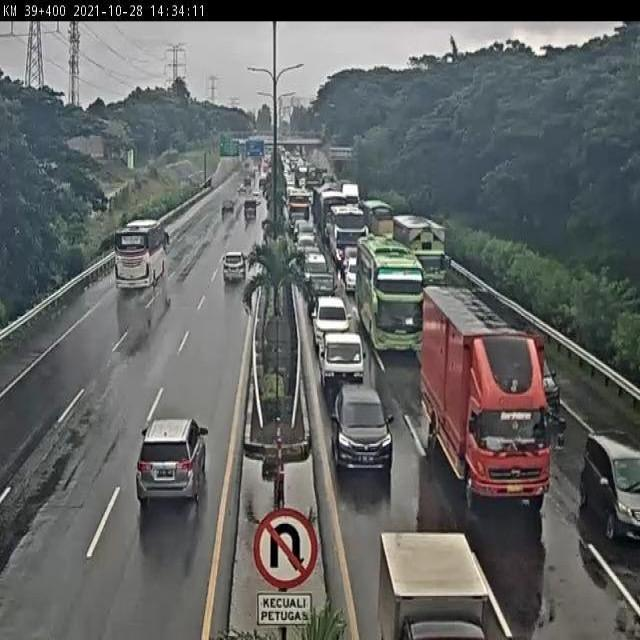big bus: (356, 241, 417, 347), (115, 220, 170, 289), (330, 208, 366, 265), (286, 190, 312, 230)
big truck: (417, 287, 544, 500), (392, 216, 453, 292), (319, 194, 345, 238)
car: (379, 516, 483, 640), (137, 420, 211, 509), (582, 431, 640, 544), (334, 387, 391, 465), (508, 344, 559, 428), (322, 330, 365, 382), (311, 297, 350, 336), (303, 269, 336, 304), (220, 249, 247, 291), (241, 201, 263, 231), (219, 193, 240, 219), (303, 250, 328, 270), (342, 252, 357, 285), (297, 234, 317, 258), (293, 218, 316, 238)
